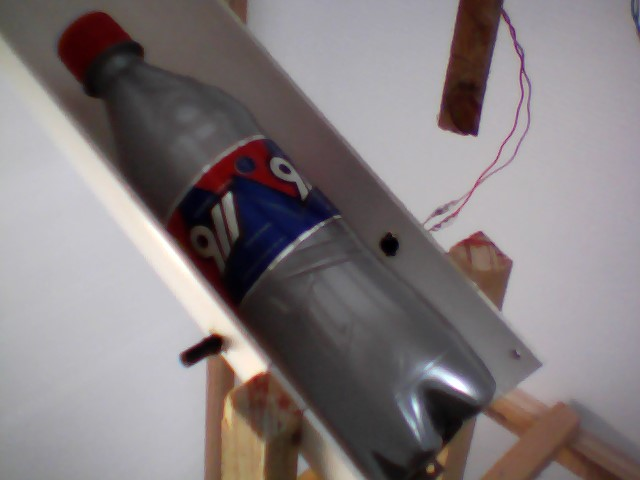plastico: (47, 5, 497, 480)
